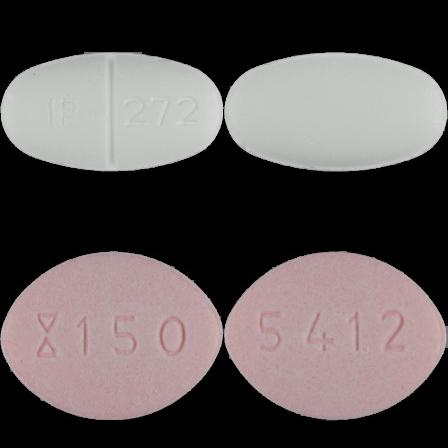43063-024: (0, 0, 224, 224)
